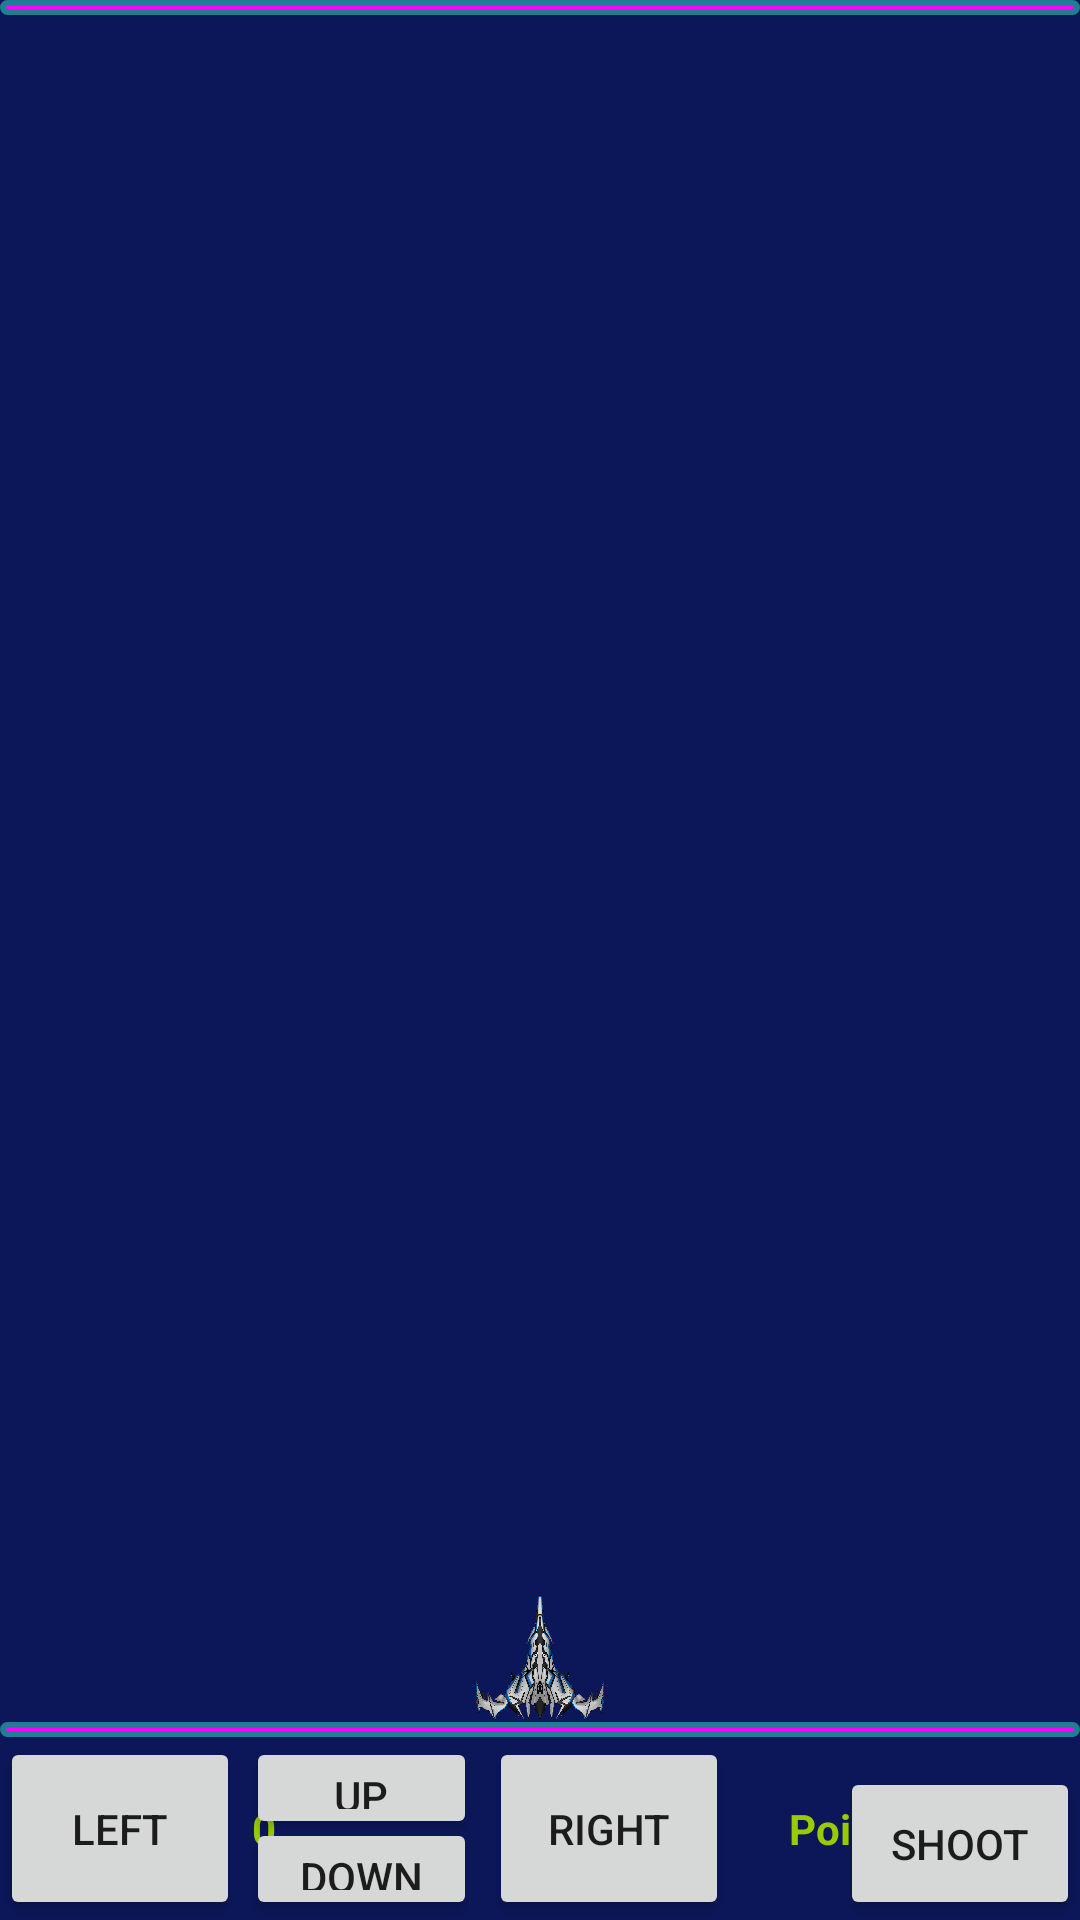

Icon bounding boxes for this 1080 × 1920 phone screenshot, format (x1, y1, x2, y2):
spritenave: (476, 1595, 604, 1720)
